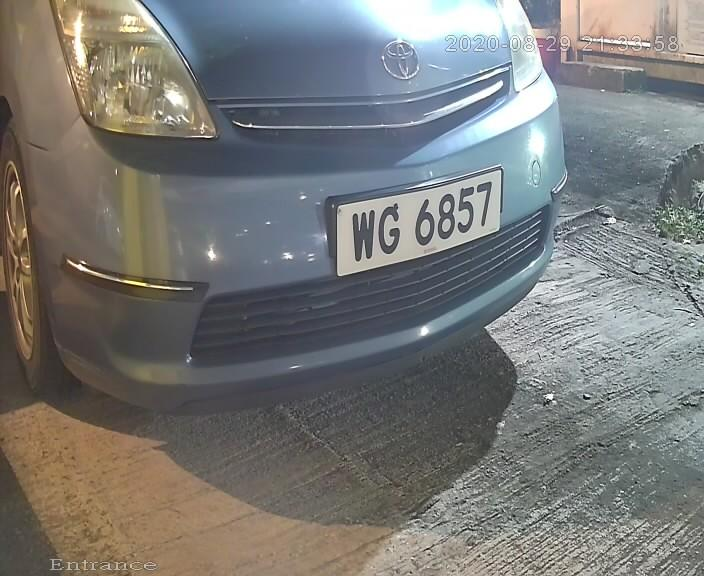License Plate: (321, 165, 500, 283)
